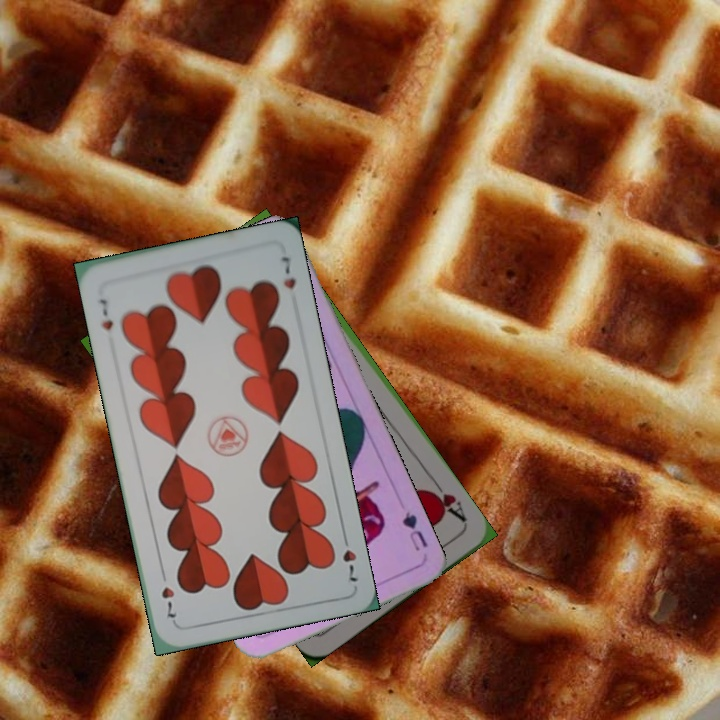GU: (398, 507, 430, 554)
H7: (338, 528, 360, 585), (95, 294, 116, 333)
HA: (422, 475, 470, 526)
